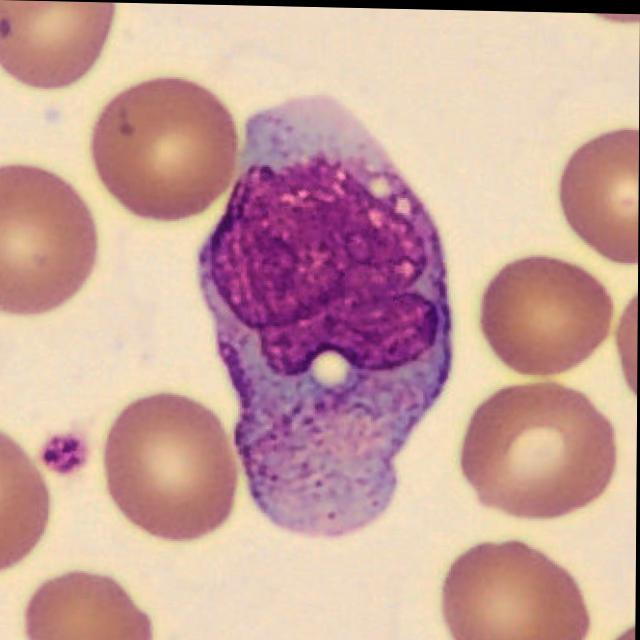Monocito: (199, 91, 453, 536)
